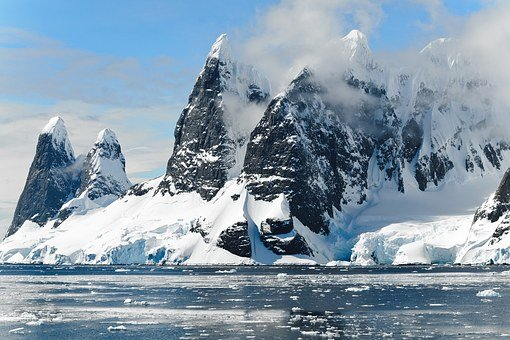lake: (11, 262, 510, 340)
mountain: (11, 45, 505, 266)
